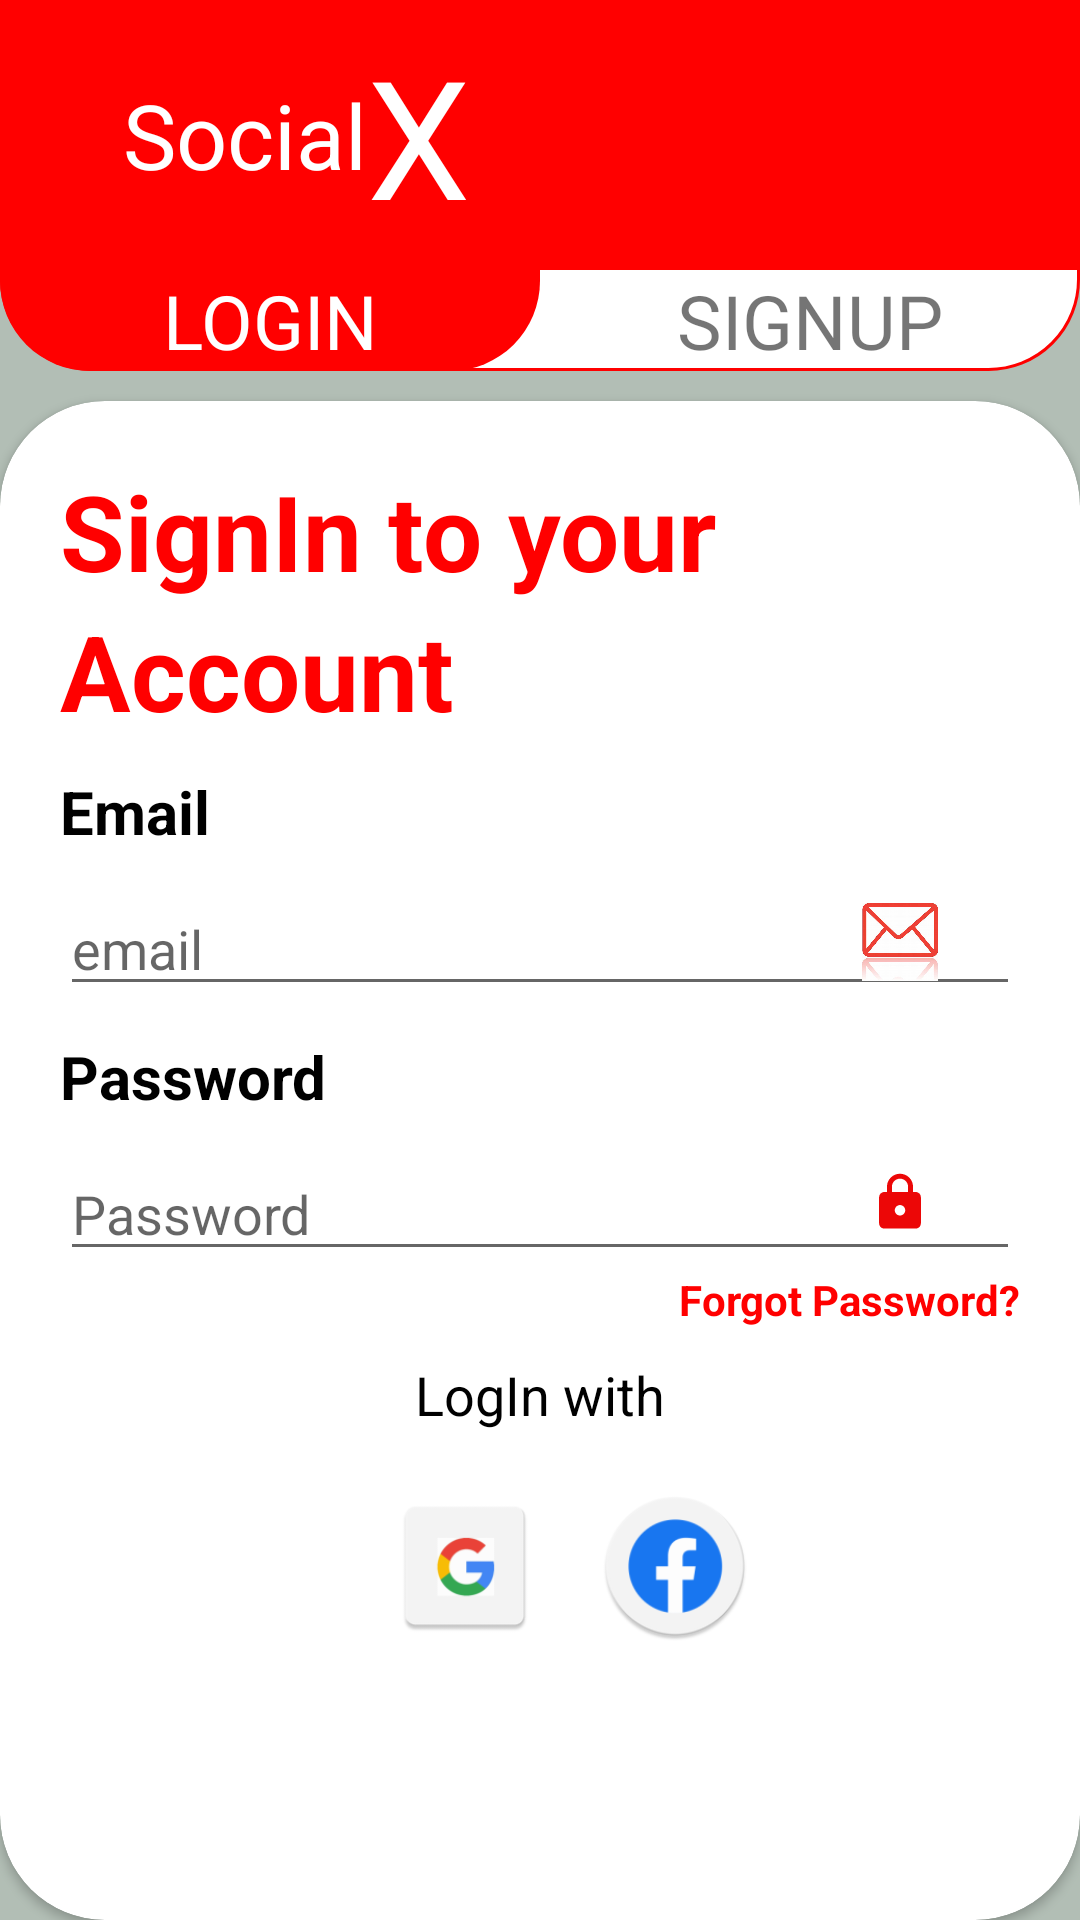

Named icons in this screenshot (1080px×1920px) and their bounding boxes, (x1=x1, y1=y1, x2=x2, y2=y2):
lock: (x1=879, y1=1173, x2=921, y2=1229)
message: (x1=862, y1=903, x2=938, y2=975)
